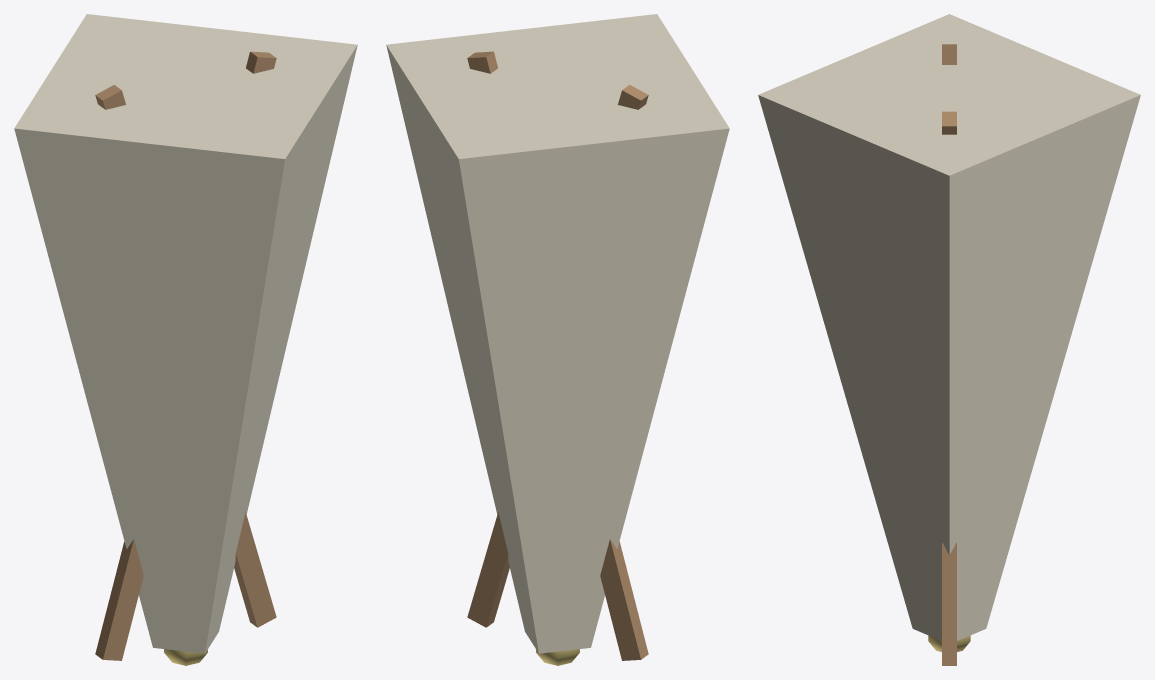
Rendered from foldingFan.glb.
3 views of the same model, side by side, from view 1: azimuth 30°, elevation 25°; view 2: azimuth 150°, elevation 25°; view 3: azimuth 270°, elevation 25° (orthographic). The views are drawn at different scales.
Parts seen in each view (by area): view 1: foldingFan; view 2: foldingFan; view 3: foldingFan.
Boxes of the visible parts, bbox=[...] form: foldingFan: bbox=[14, 14, 357, 665]; foldingFan: bbox=[386, 14, 729, 665]; foldingFan: bbox=[758, 14, 1140, 665].
Size of the model in its own units: 0.104 by 0.1715 by 0.104.
